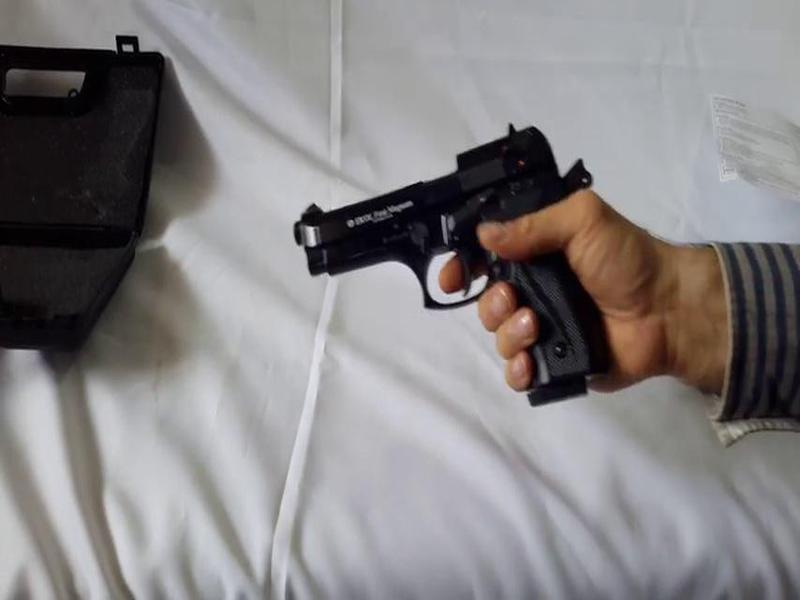Pistola: (267, 131, 602, 401)
